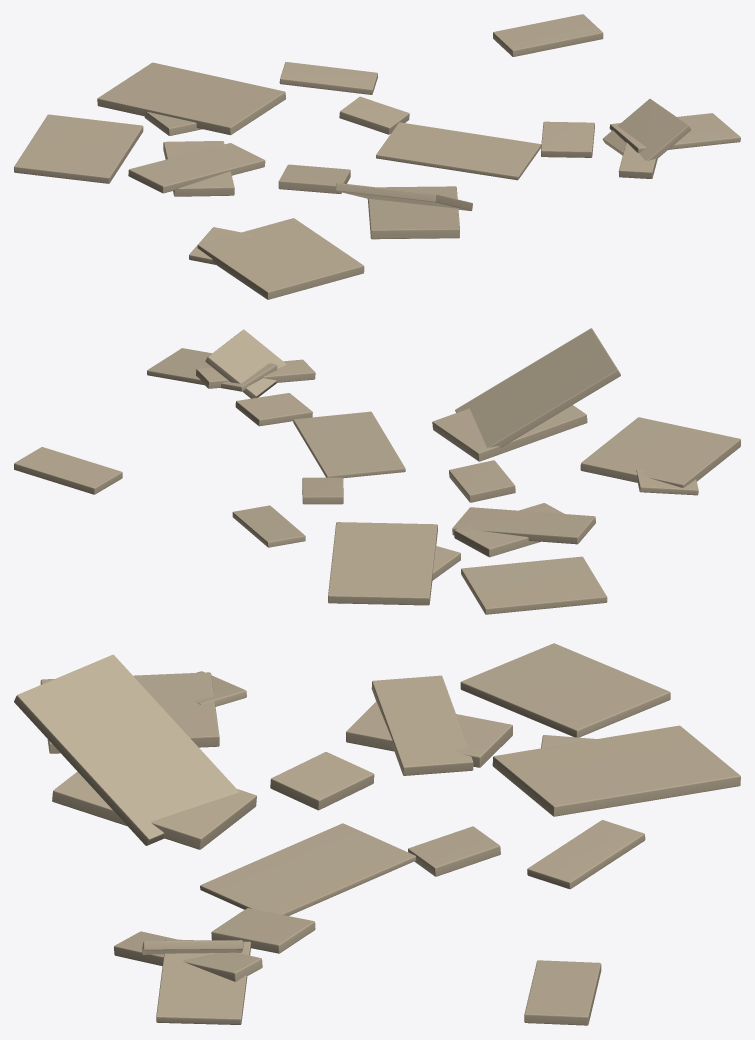
File: fallen-plaster.glb
The picture shows the model from 3 angles, top to bottom: view 1: azimuth 30°, elevation 25°; view 2: azimuth 150°, elevation 25°; view 3: azimuth 270°, elevation 25°; orthographic projection. The views are drawn at different scales.
Parts seen in each view (by area): view 1: fallen-plaster; view 2: fallen-plaster; view 3: fallen-plaster.
Boxes of the visible parts, x1,y1,x2,y2 form: fallen-plaster: (14, 14, 740, 299); fallen-plaster: (14, 328, 740, 614); fallen-plaster: (14, 643, 740, 1025).
Bounding box in the file's own units: 1.84 × 0.2232 × 1.51.
